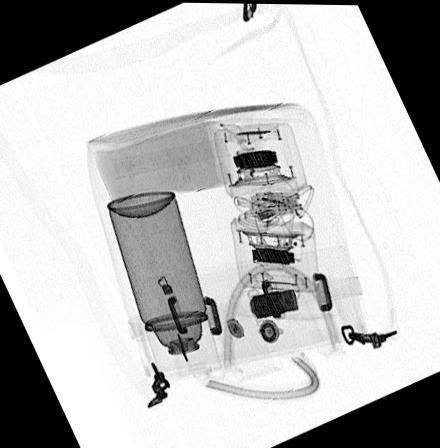Sprayer: (106, 186, 225, 381)
